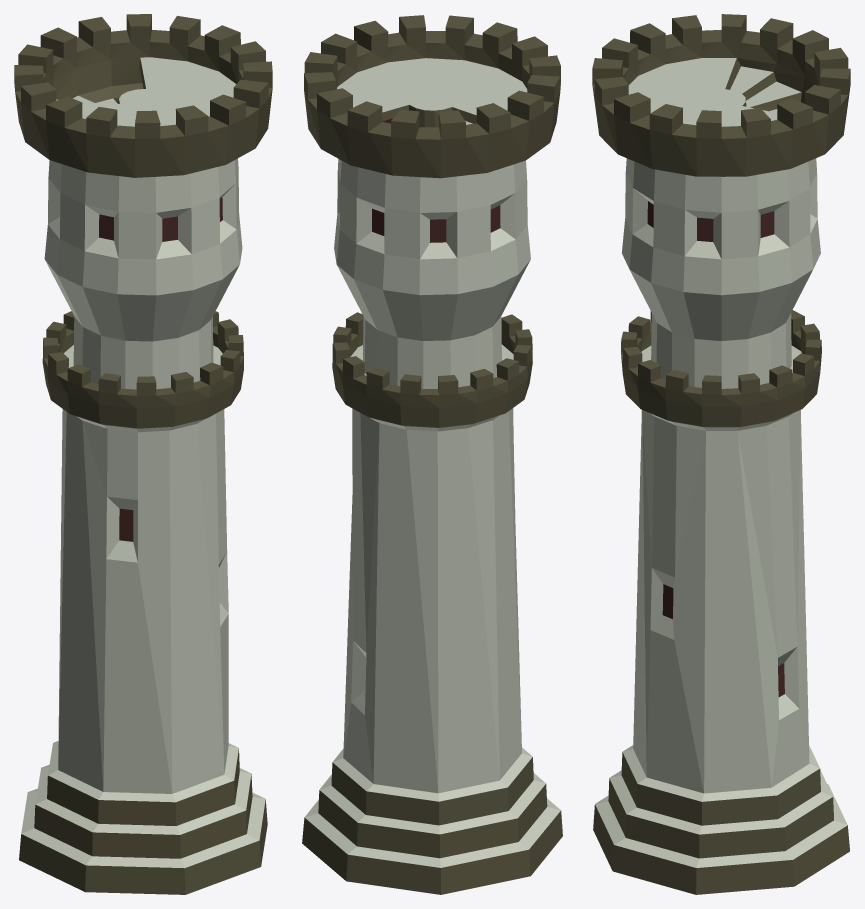
Rendered from tower.glb.
3 renders of one model, left to right at view 1: azimuth 30°, elevation 25°; view 2: azimuth 150°, elevation 25°; view 3: azimuth 270°, elevation 25°, orthographic.
Visible parts, largest first — view 1: Castle.008_Medieval_0; view 2: Castle.008_Medieval_0; view 3: Castle.008_Medieval_0.
Part boxes in pixels (x1=…): Castle.008_Medieval_0: x1=14, y1=14, x2=272, y2=894; Castle.008_Medieval_0: x1=302, y1=15, x2=562, y2=894; Castle.008_Medieval_0: x1=592, y1=14, x2=850, y2=894.
Bounding box in the file's own units: 4.22 × 13.9 × 4.22.
2 materials, 1 textured.
